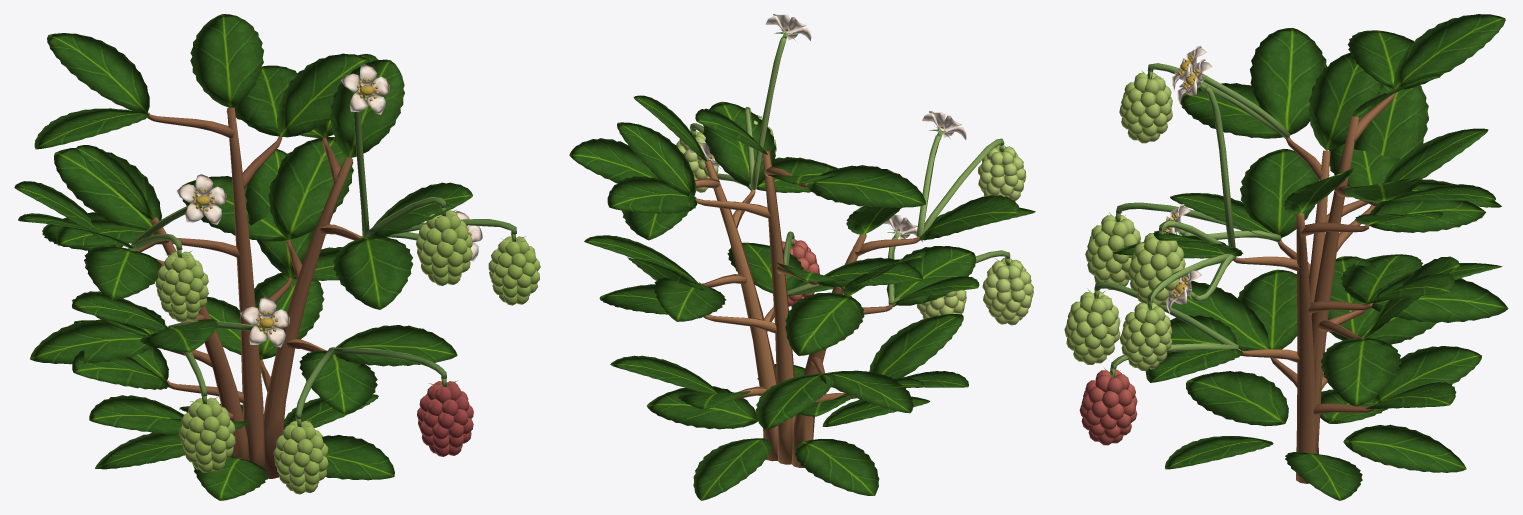
Rendered from NP_Blackberry_Flowering.fbx.
3 views of the same model, side by side, from view 1: azimuth 30°, elevation 25°; view 2: azimuth 150°, elevation 25°; view 3: azimuth 270°, elevation 25° (orthographic). The views are drawn at different scales.
Parts seen in each view (by area): view 1: NP_Blackberry_Flowering; view 2: NP_Blackberry_Flowering; view 3: NP_Blackberry_Flowering.
Boxes of the visible parts, x1=… form: NP_Blackberry_Flowering: x1=14, y1=14, x2=540, y2=500; NP_Blackberry_Flowering: x1=569, y1=14, x2=1035, y2=500; NP_Blackberry_Flowering: x1=1064, y1=14, x2=1508, y2=500.
Bounding box in the file's own units: 96.7 × 89.91 × 82.82.
